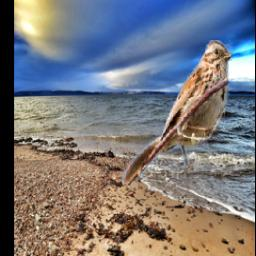Sparrow: (123, 40, 233, 185)
